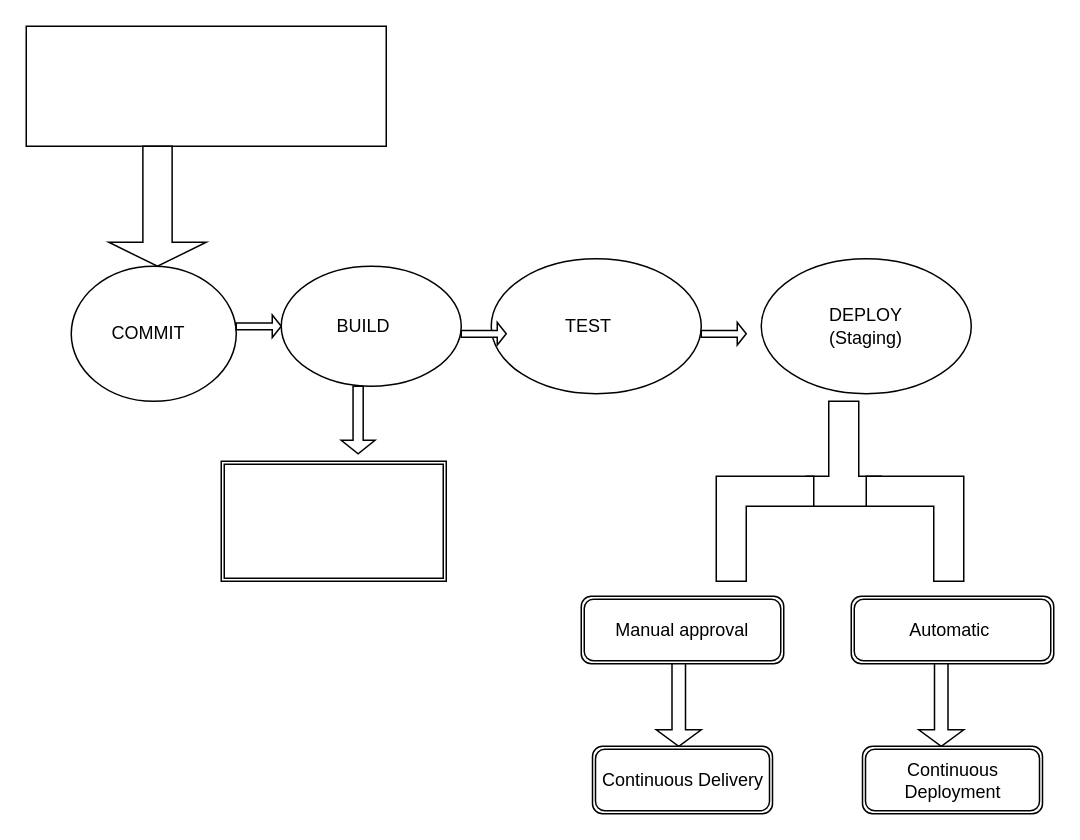
Image size: 1080x840. Some labels were removed from this diagram. The shapes that lost their labels are listed below. From the top down, each one's box as (x1, y1, x2, y2) in pixels, then its label:
(25, 25, 386, 146): Developer pushes code
(220, 460, 446, 581): if failed notify develper
